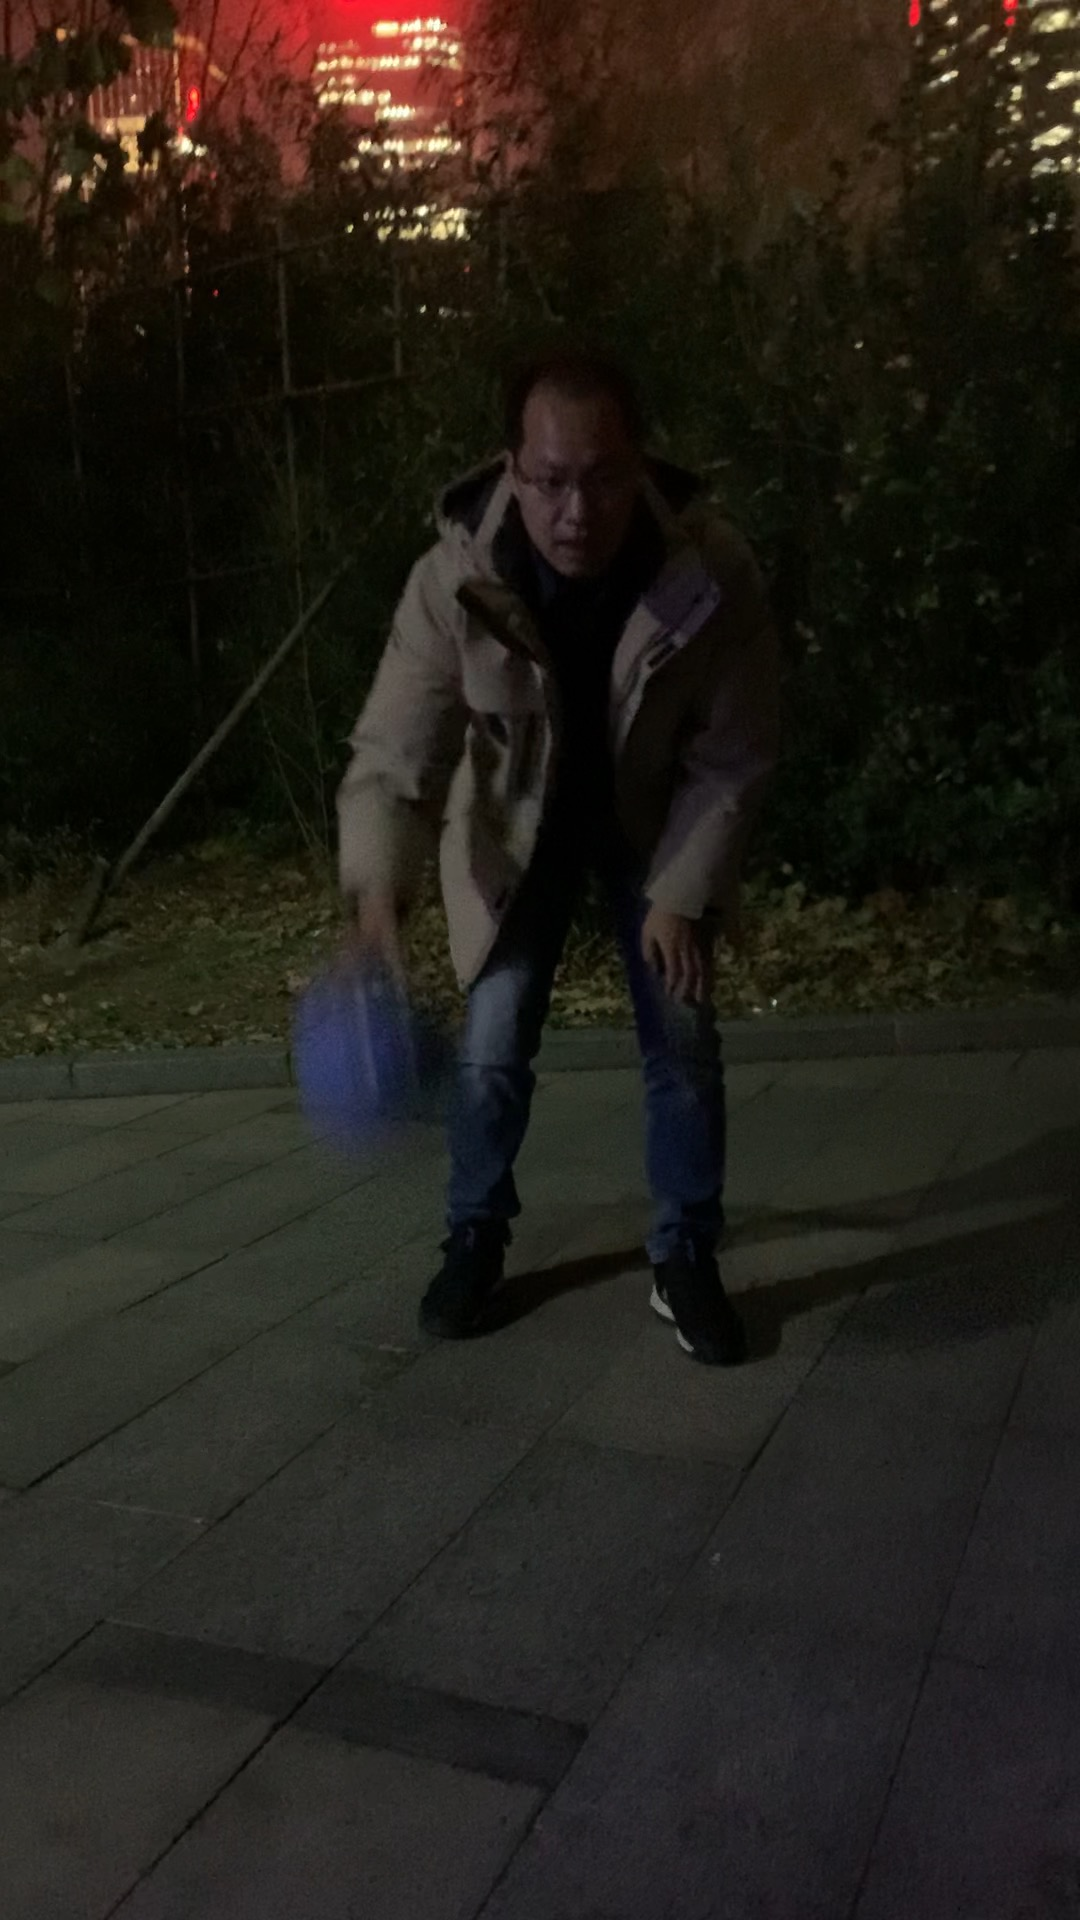ball: (291, 994, 452, 1164)
